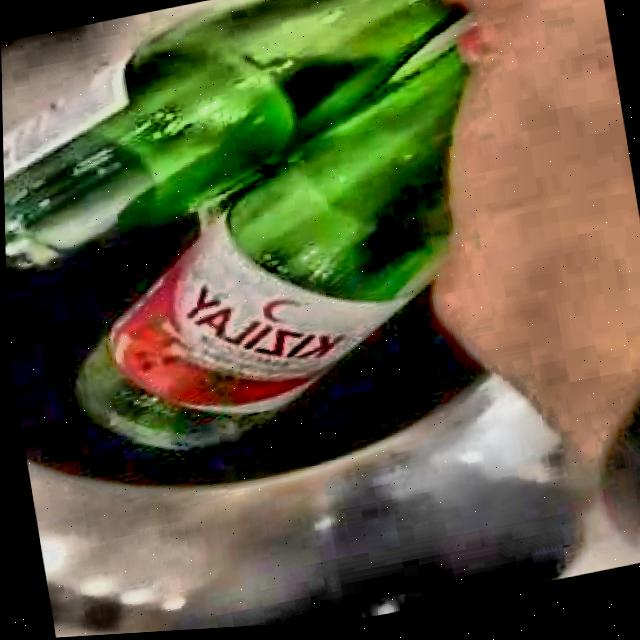glass: (2, 0, 468, 450)
